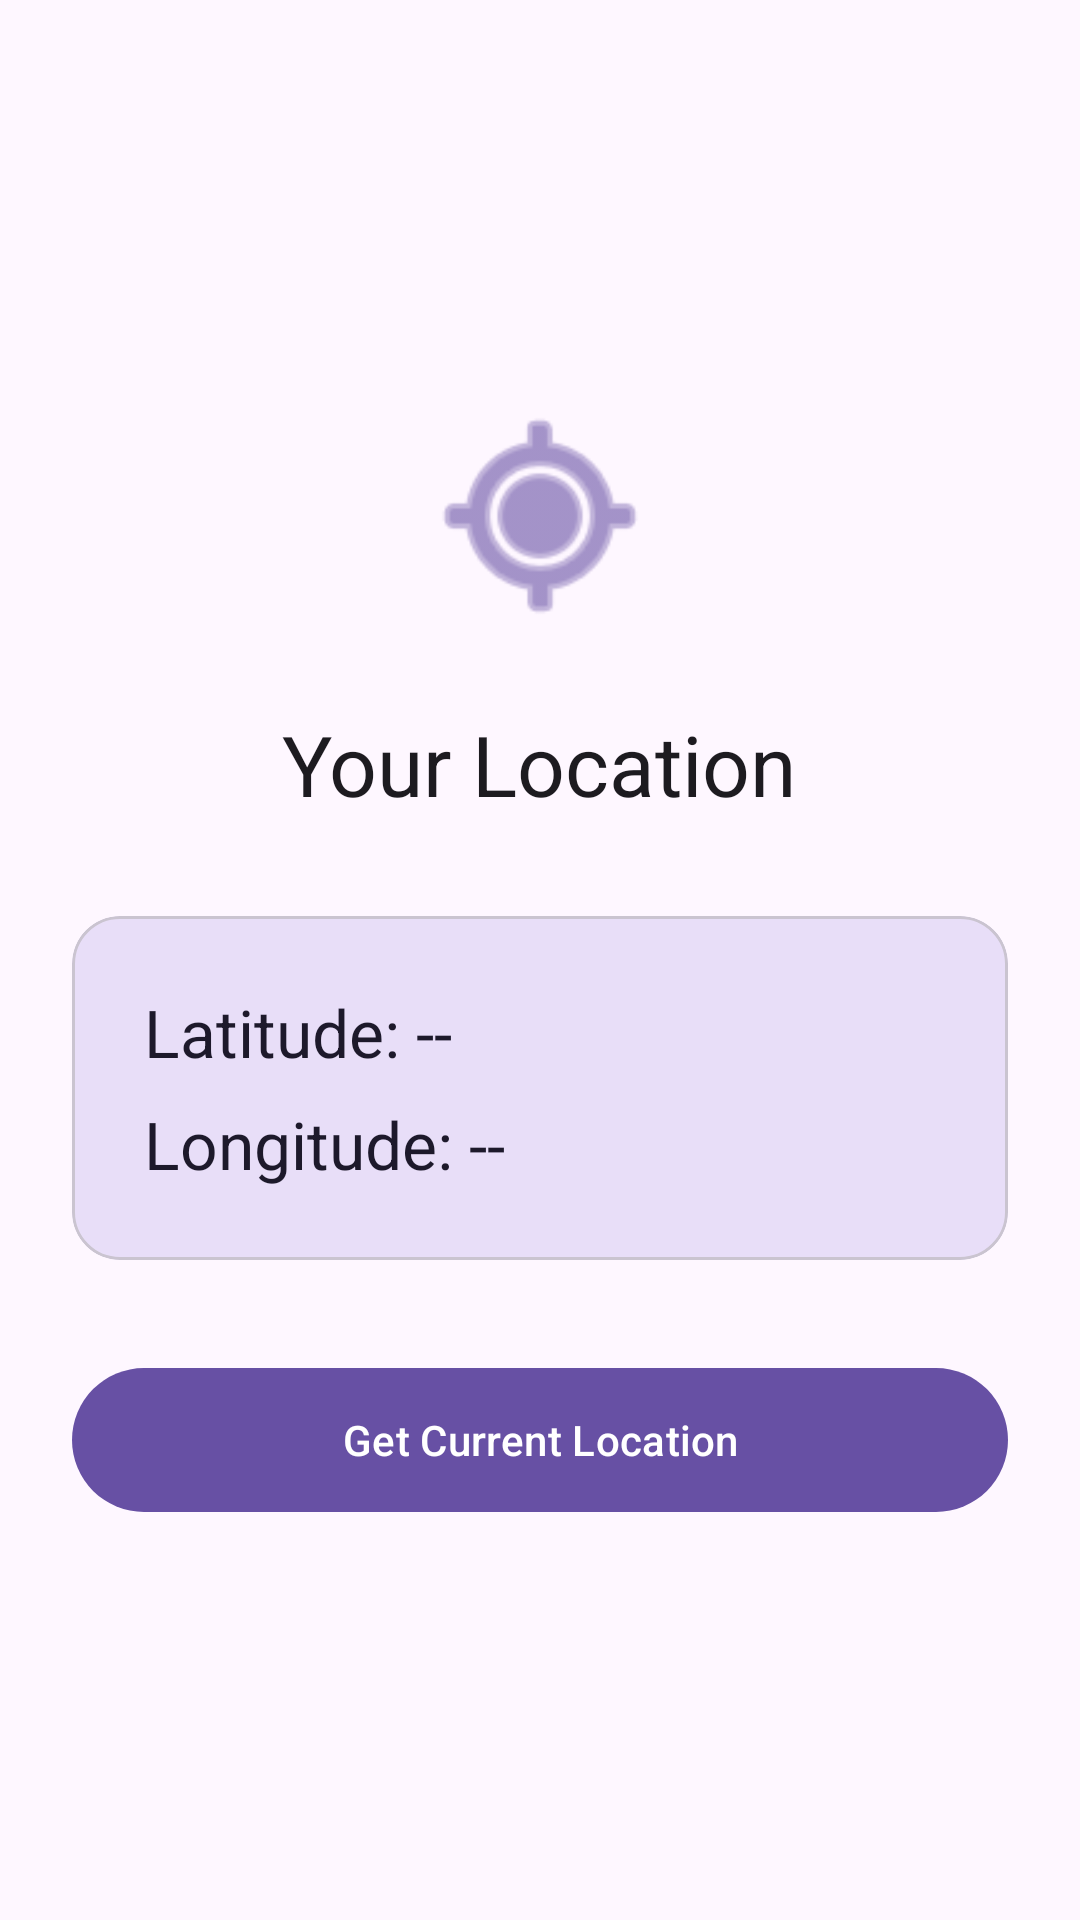

Where to tap for icons on this 1080x1920 app screen, as (x,y):
mylocation: (540,516)
